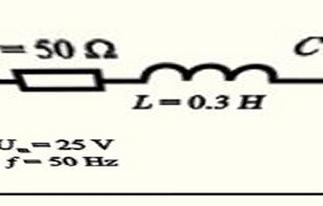inductor: (121, 59, 291, 97)
